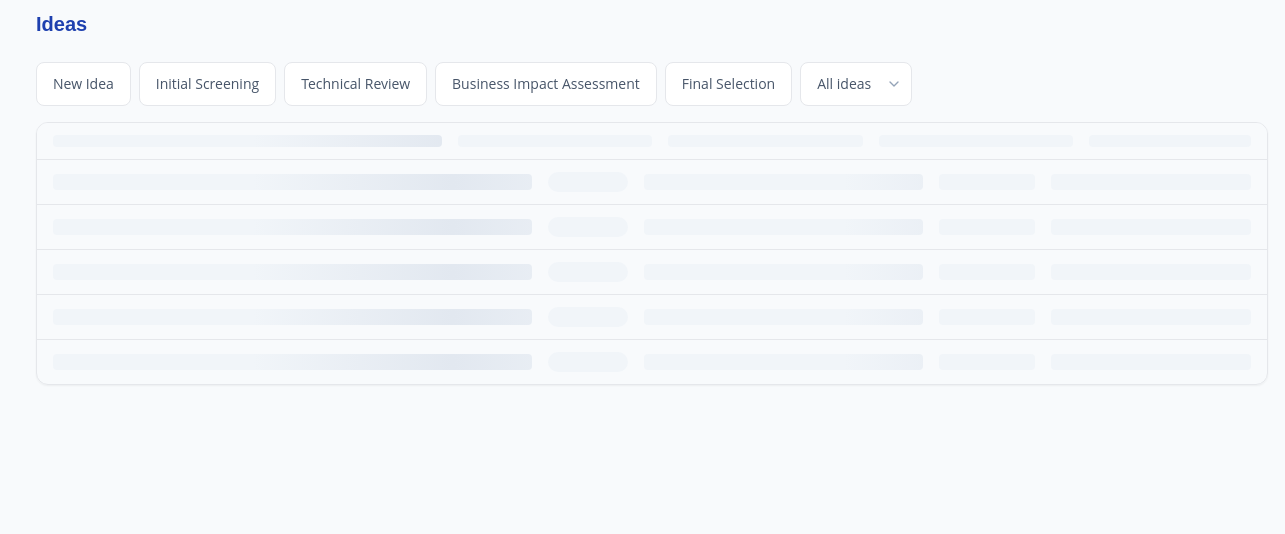
Test case: IdeasPage — StageFilterCards URL persistence › two cards selected → URL has two stage= params
Click the button "New Idea": (83, 84) [36,62,131,106]
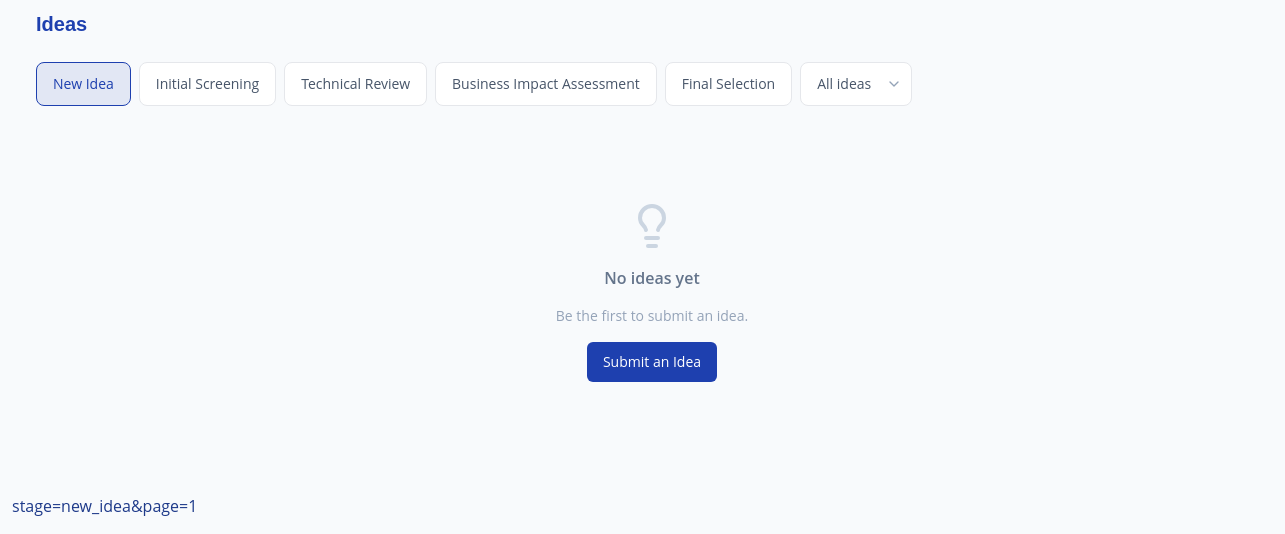
Result: the text with test id "search-params" shows "stage=new_idea" at [12,495,197,517]
Click the button "Technical Review": (356, 84) [284,62,427,106]
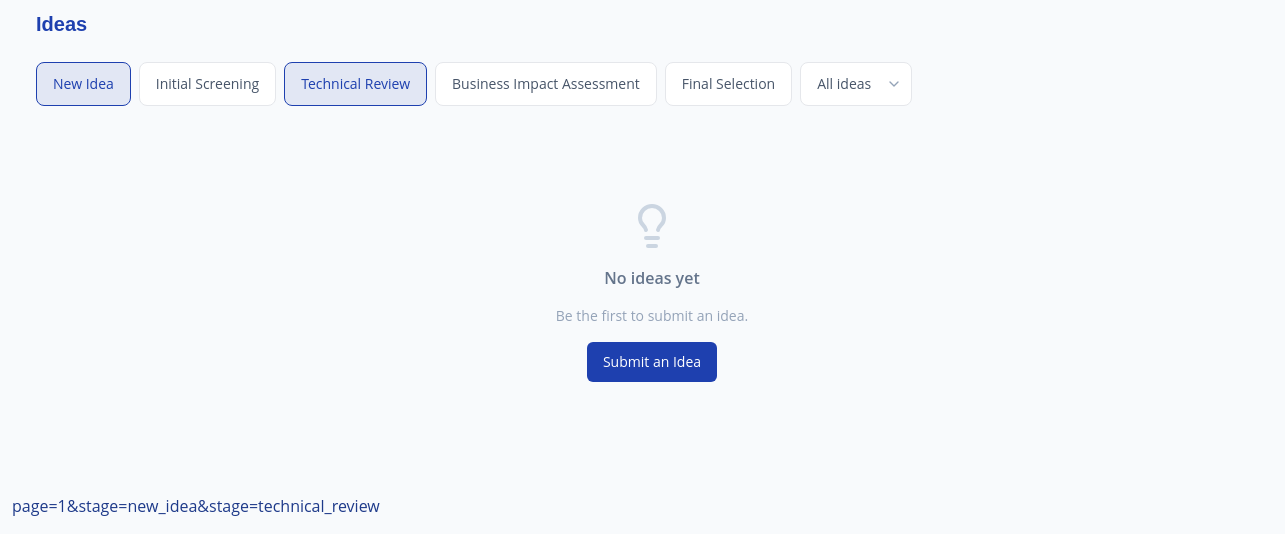
Result: the text with test id "search-params" shows "stage=new_idea" at [12,495,380,517]
Result: the text with test id "search-params" shows "stage=technical_review" at [12,495,380,517]
